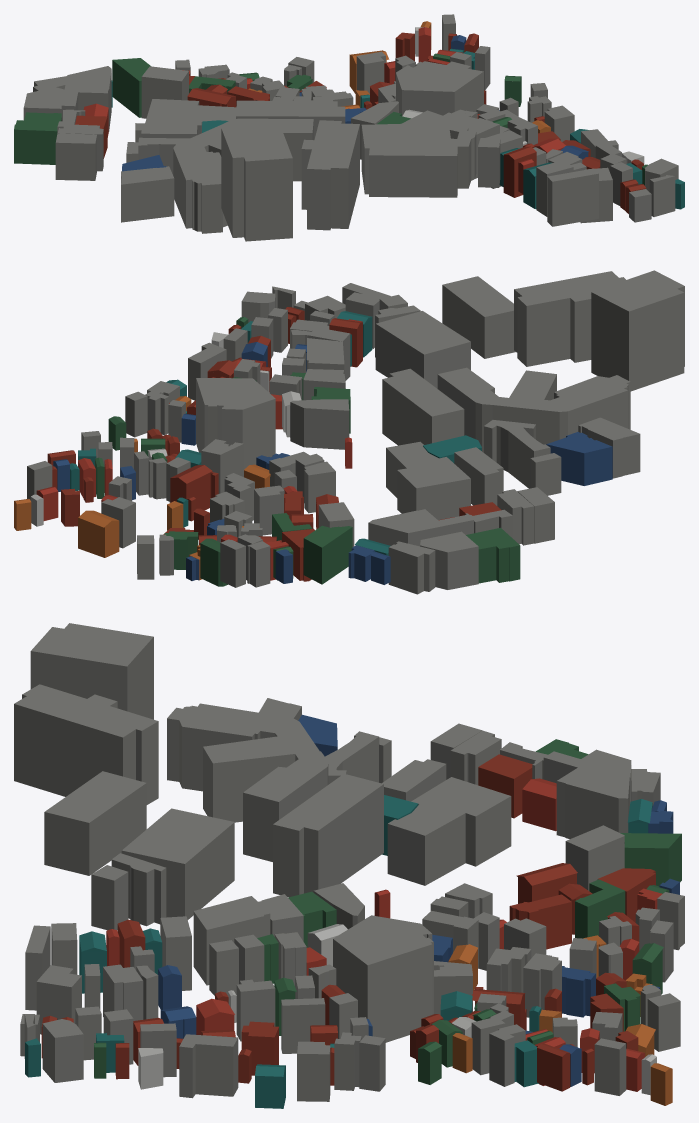
The model's file is near-17-109444-59474.a98d0996.glb.
3 renders of one model, top to bottom at view 1: azimuth 30°, elevation 25°; view 2: azimuth 150°, elevation 25°; view 3: azimuth 270°, elevation 25°, orthographic. The views are drawn at different scales.
Bounding box in the file's own units: 314 × 116 × 302.
